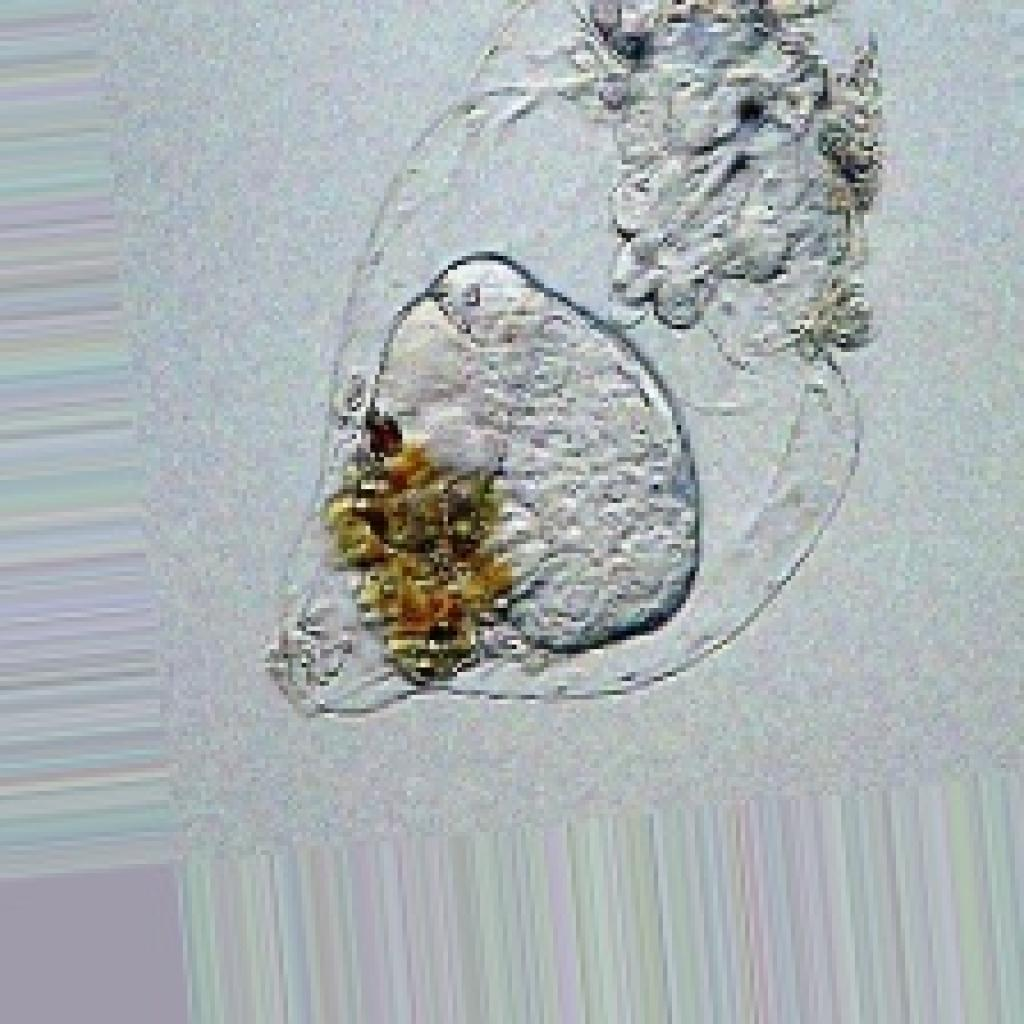Rotifer: (260, 0, 887, 718)
